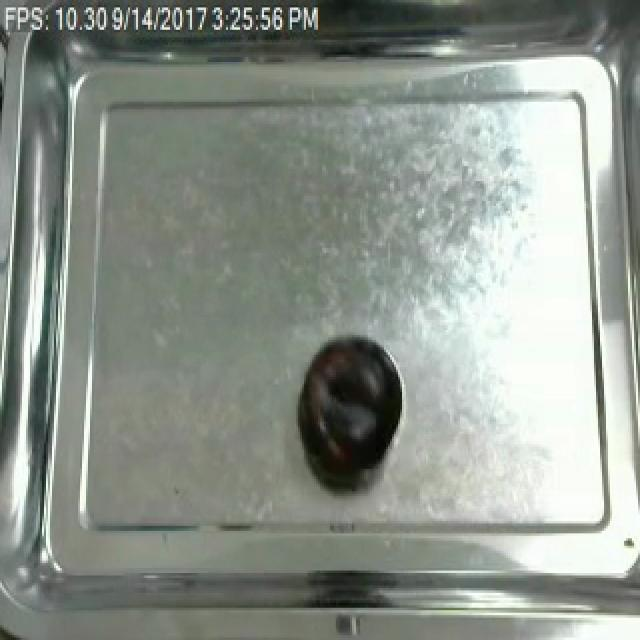Fruit: (294, 332, 398, 459)
